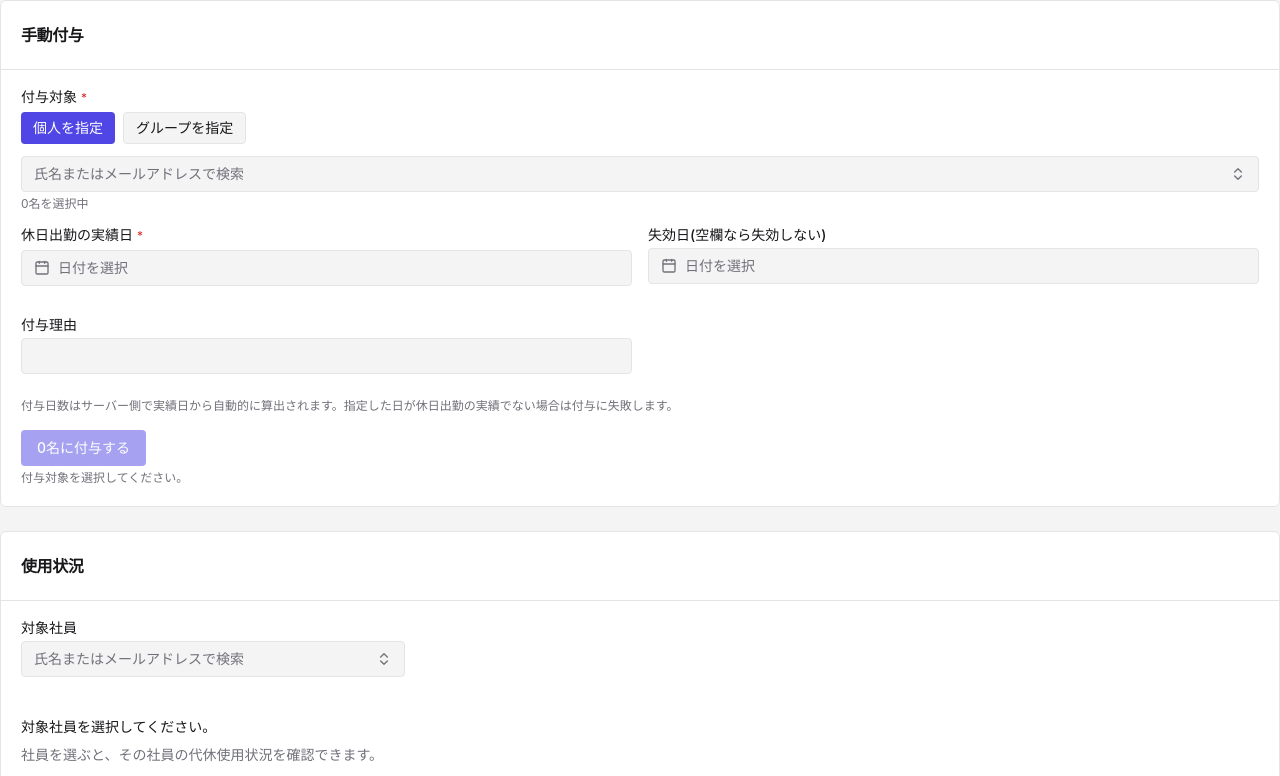
Scenario: CompensatoryLeaveAdminPage › grant list buttons of the target user › shows a disabled change-days button with the reason for a confirmed grant, and an enabled revoke button
Click the dropdown named "付与対象" at coordinates (139, 174), box [21, 156, 1259, 192]
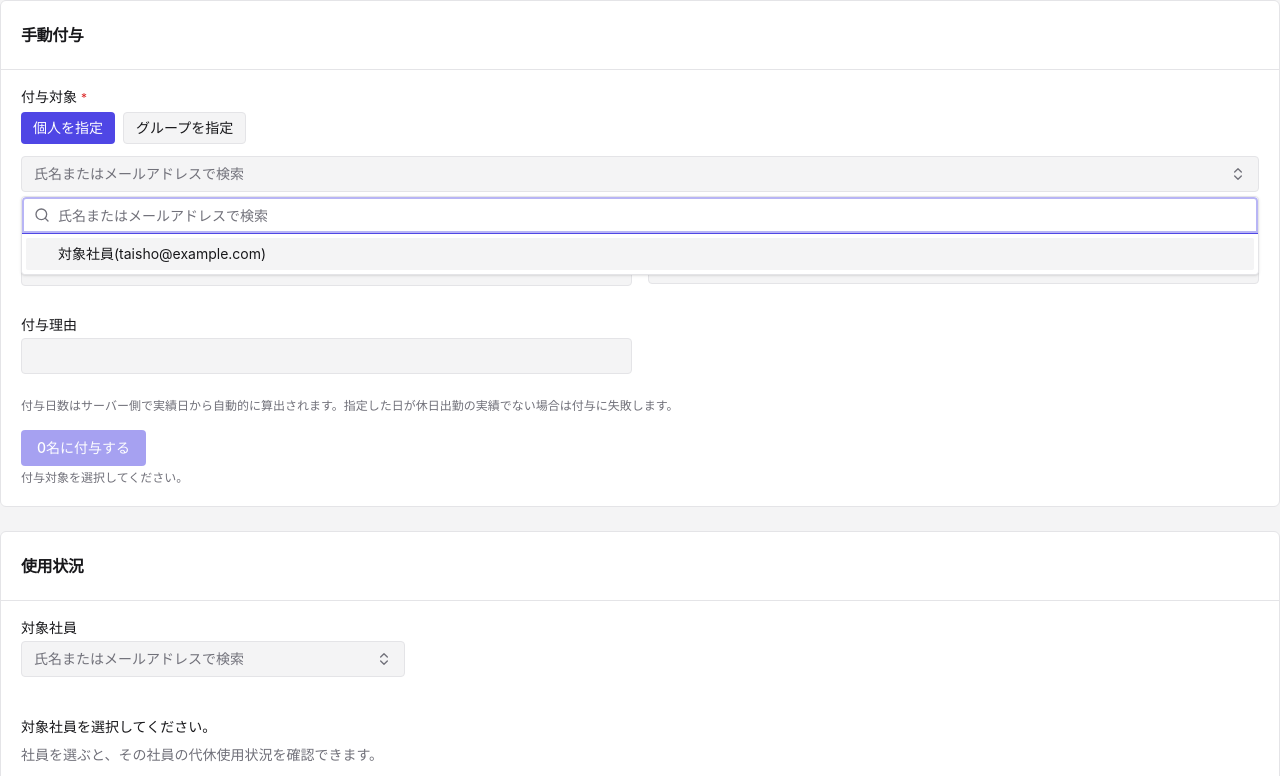
Type "対象" into the 2nd dropdown with placeholder "氏名またはメールアドレスで検索" at coordinates (652, 215), box [58, 197, 1246, 233]
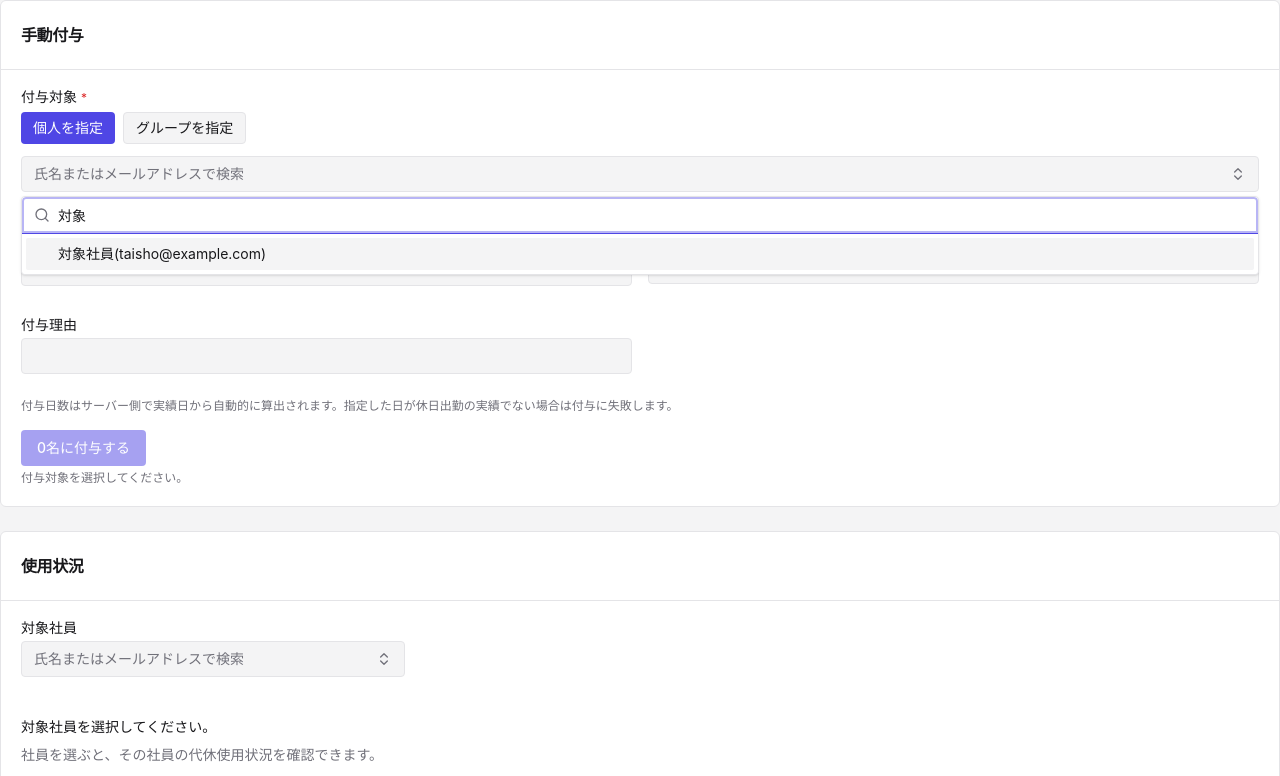
Click the option "対象社員(taisho@example.com)" at coordinates (86, 254), box [26, 238, 1254, 270]
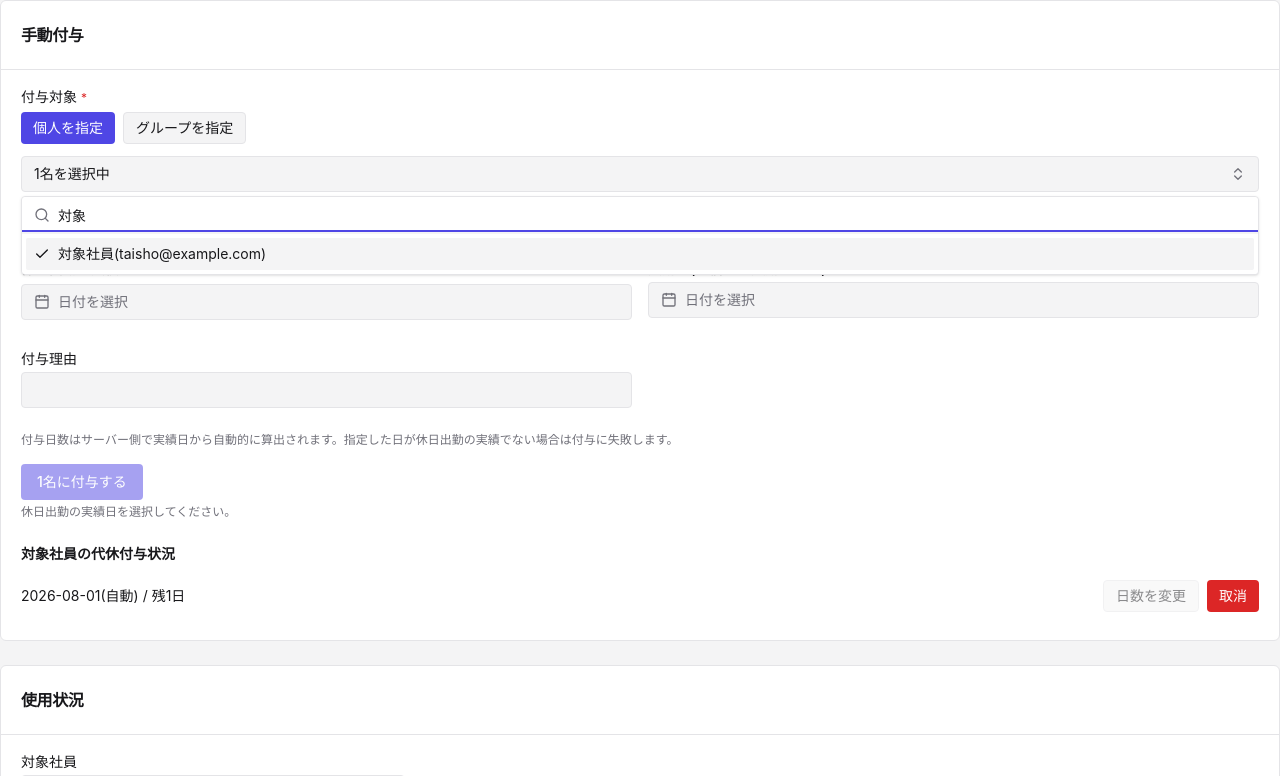
Expected: the button "日数を変更" is disabled, [1103, 580, 1199, 612]
Expected: the button "取消" is enabled, [1207, 580, 1259, 612]
